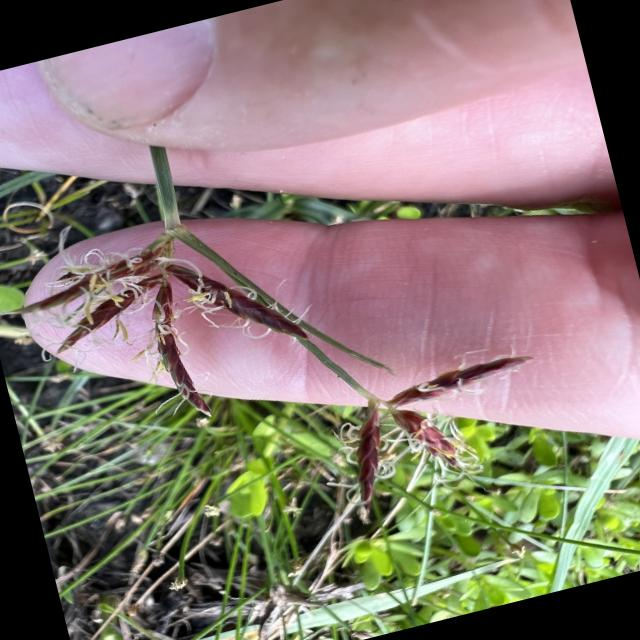cyperus: (10, 135, 552, 579)
